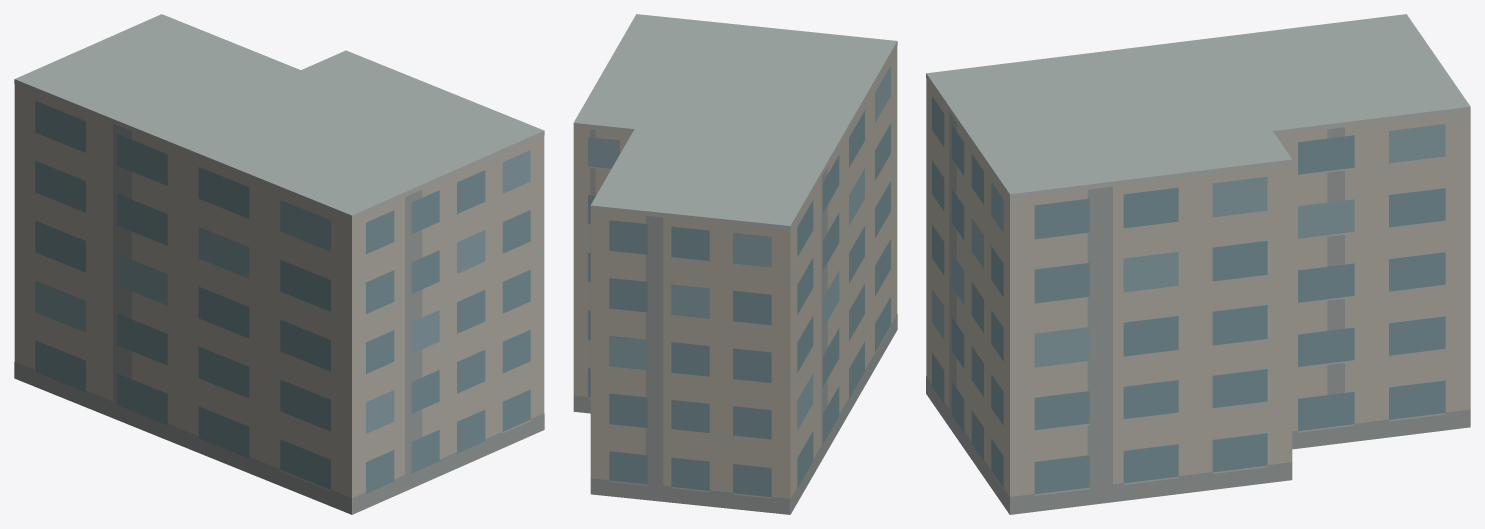
Rendered from residential-d501d958-0e3c-4376-8bfc-66120072dbb3.glb.
3 views of the same model, side by side, from view 1: azimuth 30°, elevation 25°; view 2: azimuth 150°, elevation 25°; view 3: azimuth 270°, elevation 25° (orthographic). The views are drawn at different scales.
Parts seen in each view (by area): view 1: residential-d501d958-0e3c-4376-8bfc-66120072dbb3.tmp; view 2: residential-d501d958-0e3c-4376-8bfc-66120072dbb3.tmp; view 3: residential-d501d958-0e3c-4376-8bfc-66120072dbb3.tmp.
Boxes of the visible parts, x1,y1,x2,y2 form: residential-d501d958-0e3c-4376-8bfc-66120072dbb3.tmp: (14, 14, 544, 514); residential-d501d958-0e3c-4376-8bfc-66120072dbb3.tmp: (573, 14, 897, 514); residential-d501d958-0e3c-4376-8bfc-66120072dbb3.tmp: (926, 14, 1470, 514).
Size of the model in its own units: 18.39 by 15.25 by 23.48.
